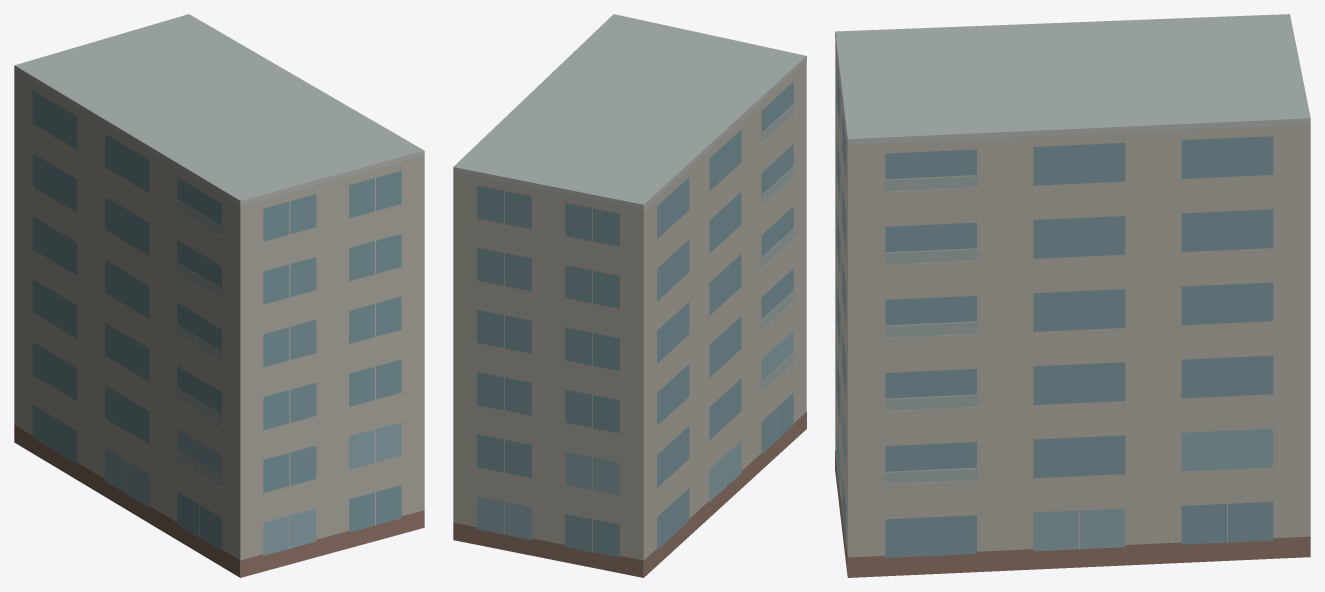
The model's file is survey-upis-32746772.glb.
The picture shows the model from 3 angles, left to right: view 1: azimuth 30°, elevation 25°; view 2: azimuth 150°, elevation 25°; view 3: azimuth 270°, elevation 25°; orthographic projection. The views are drawn at different scales.
Visible parts, largest first — view 1: survey-upis-32746772.tmp; view 2: survey-upis-32746772.tmp; view 3: survey-upis-32746772.tmp.
Part boxes in pixels (x1,y1,x2,y2): survey-upis-32746772.tmp: (14,14,424,577); survey-upis-32746772.tmp: (453,14,806,577); survey-upis-32746772.tmp: (835,14,1310,577).
Size of the model in its own units: 11.2 by 18.3 by 17.99.
